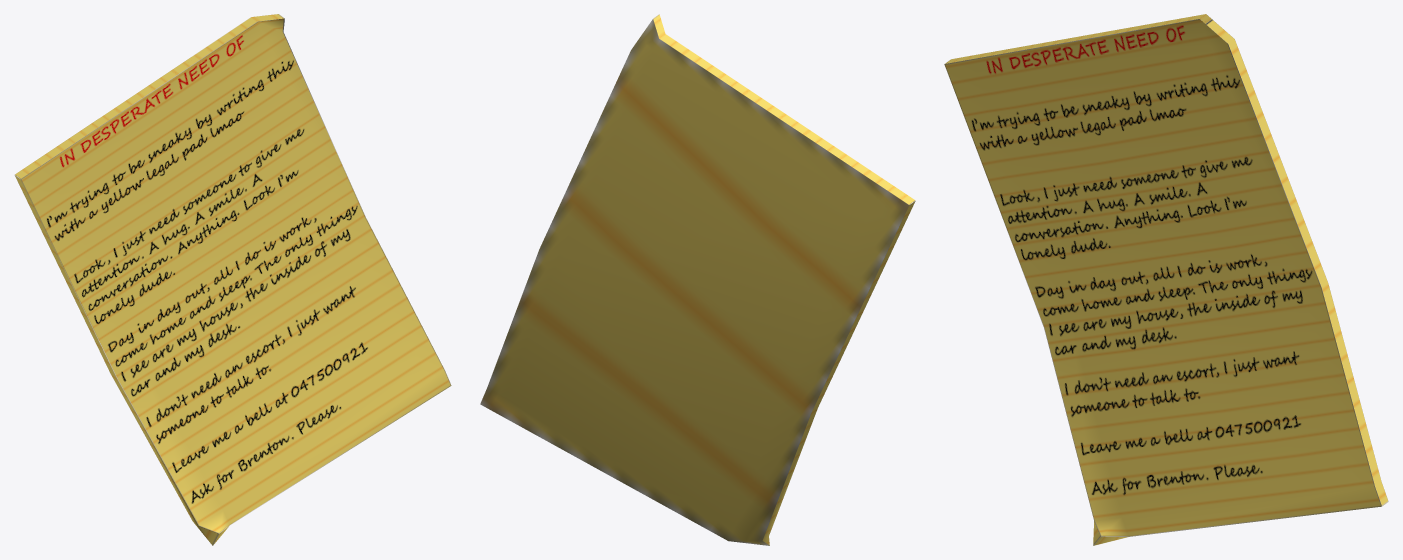
Rendered from YellowLegalPaper.fbx.
3 views of the same model, side by side, from view 1: azimuth 30°, elevation 25°; view 2: azimuth 150°, elevation 25°; view 3: azimuth 330°, elevation 25° (orthographic). The views are drawn at different scales.
Visible parts, largest first — view 1: pCube18; view 2: pCube18; view 3: pCube18.
Part boxes in pixels (<box>): pCube18: <box>14,14,451,545</box>; pCube18: <box>480,14,915,545</box>; pCube18: <box>944,14,1388,545</box>.
Bounding box in the file's own units: 28.04 × 31.62 × 4.14.
